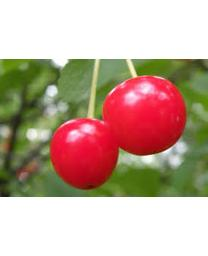cherry: (103, 75, 187, 157), (50, 117, 121, 190)
